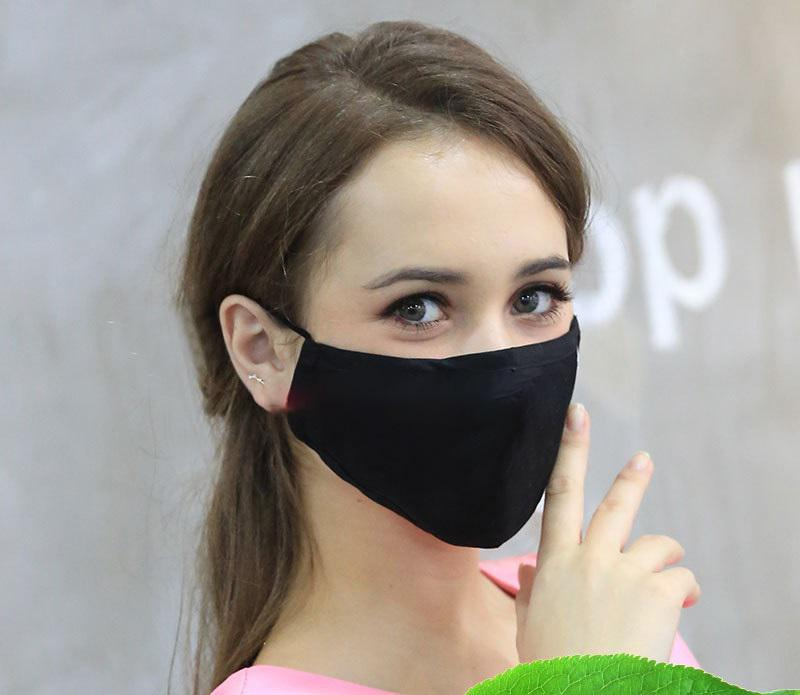OK: (303, 205, 582, 551)
